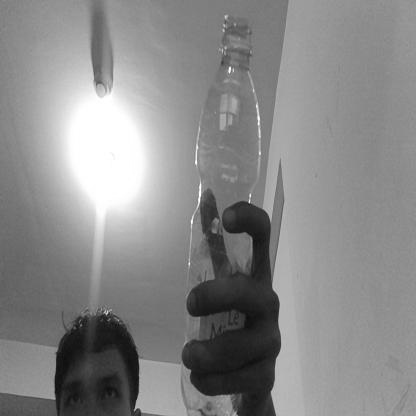plastic_bottles: (180, 13, 261, 416)
